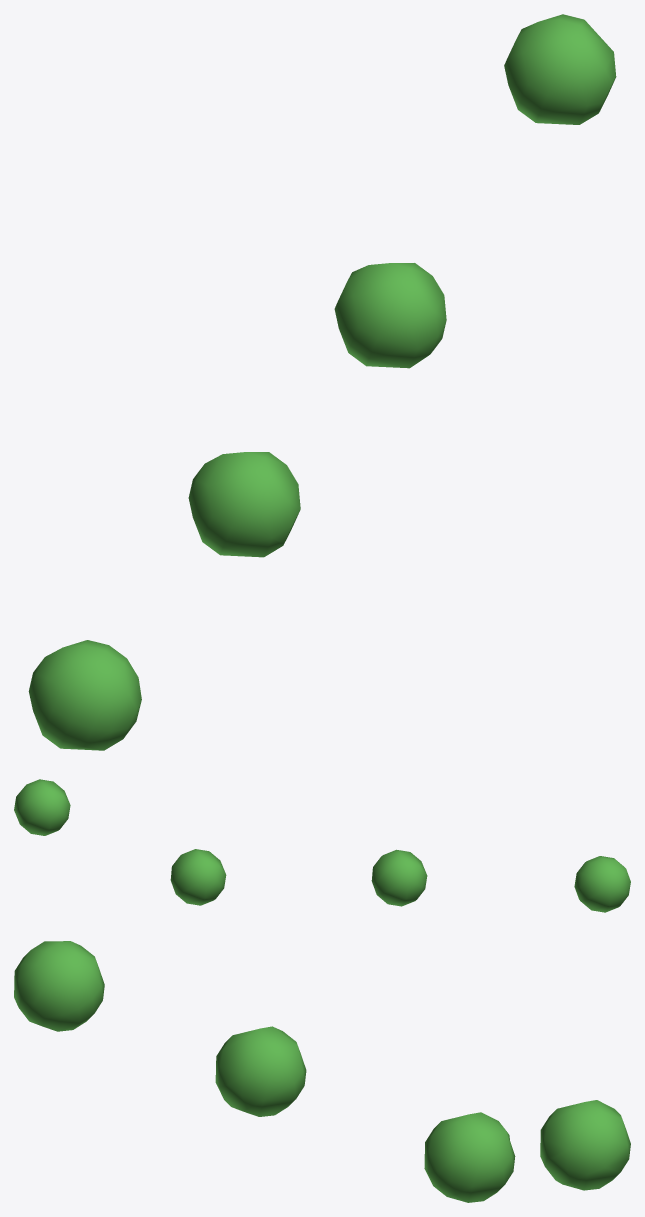
Rendered from linfatico-submental-nodes-l.glb.
3 views of the same model, one above another, from view 1: azimuth 30°, elevation 25°; view 2: azimuth 150°, elevation 25°; view 3: azimuth 270°, elevation 25° (orthographic). The views are drawn at different scales.
Parts seen in each view (by area): view 1: Submental nodes.l; view 2: Submental nodes.l; view 3: Submental nodes.l.
Boxes of the visible parts, box(x1,y1,x2,y2) form: Submental nodes.l: box(28, 14, 616, 750); Submental nodes.l: box(14, 779, 630, 912); Submental nodes.l: box(14, 941, 630, 1202).
Size of the model in its own units: 0.0235 by 0.00748 by 0.0172.
